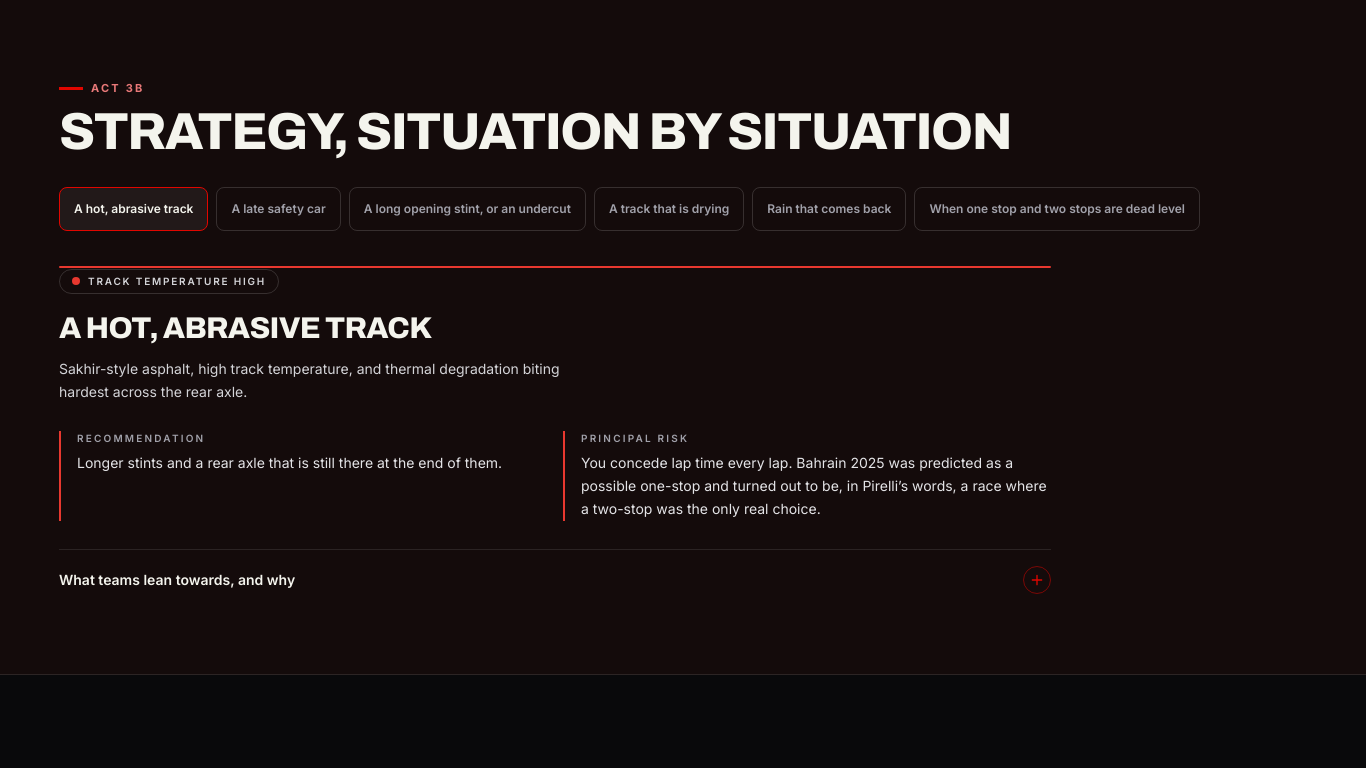
Test case: ActStrategy — content follows the selected scenario › lands on the right content after a large jump and a backward step
Click the button "When one stop and two stops are dead level": {"x": 1057, "y": 209} 914,187 -> 1200,231
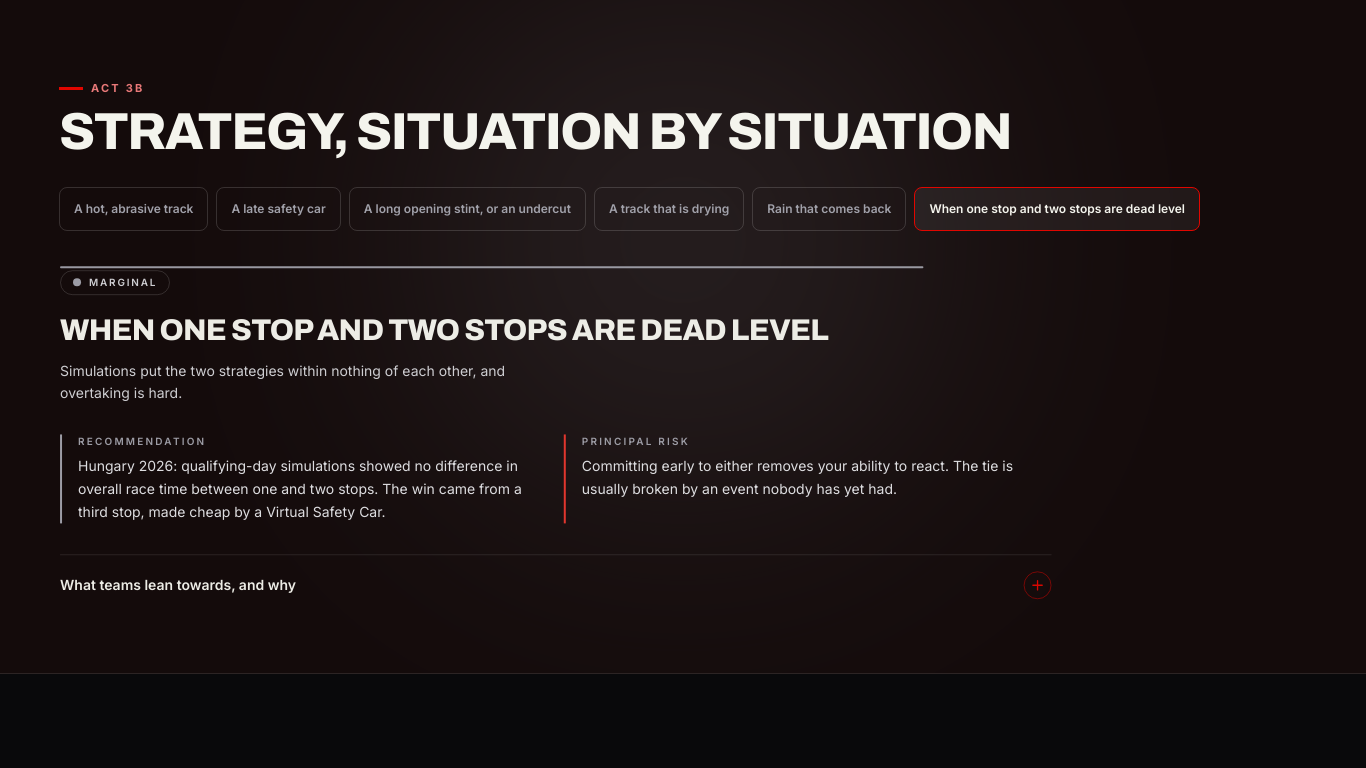
Expected: the heading "When one stop and two stops are dead level" is shown, 60,314 -> 828,346
Expected: the text "Hungary 2026: qualifying-day simulations showed no difference in overall race time between one and two stops. The win ca" is shown, 78,458 -> 522,520
Click the button "A late safety car": {"x": 279, "y": 209} 216,187 -> 341,231
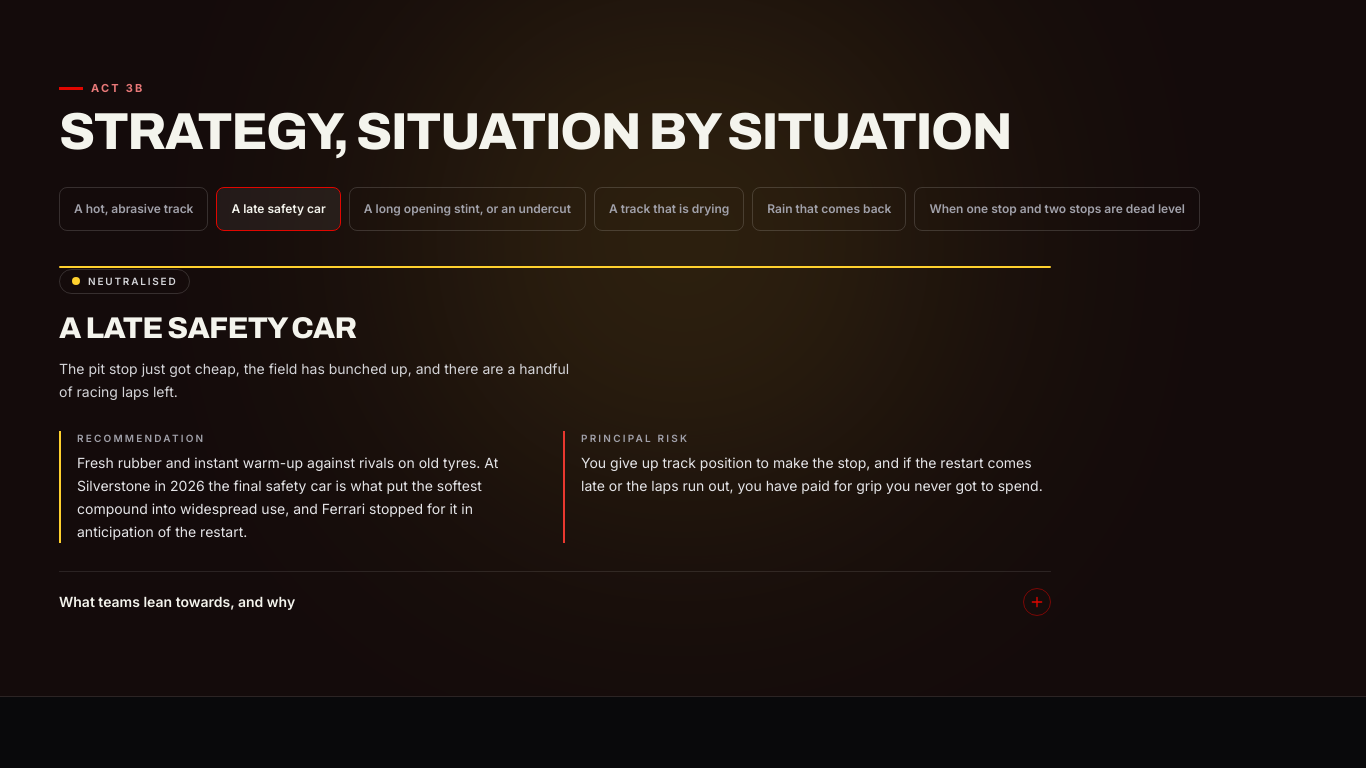
Expected: the heading "A late safety car" is shown, 59,312 -> 356,344
Expected: the text "Fresh rubber and instant warm-up against rivals on old tyres. At Silverstone in 2026 the final safety car is what put th" is shown, 77,454 -> 498,540
Expected: the text "Hungary 2026: qualifying-day simulations showed no difference in overall race time between one and two stops. The win ca" is gone
